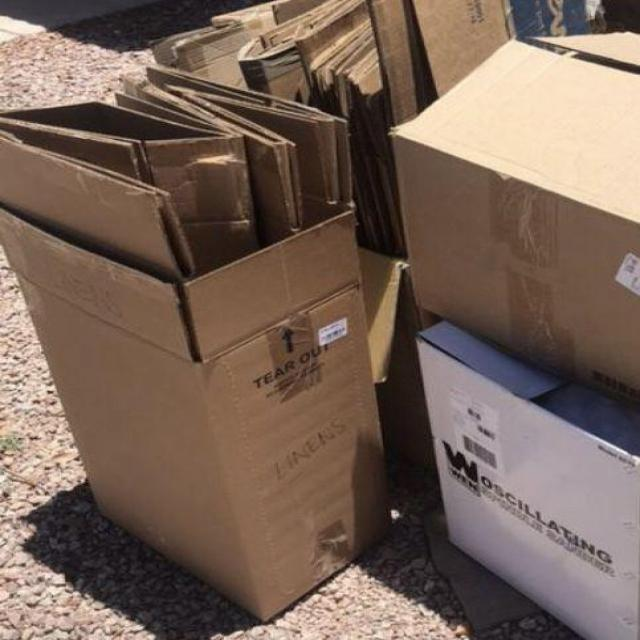cardboard: (0, 67, 408, 621), (384, 31, 640, 409), (414, 318, 640, 639)
